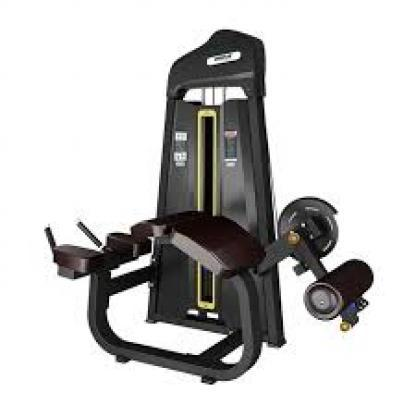reg curl machine: (44, 27, 374, 389)
